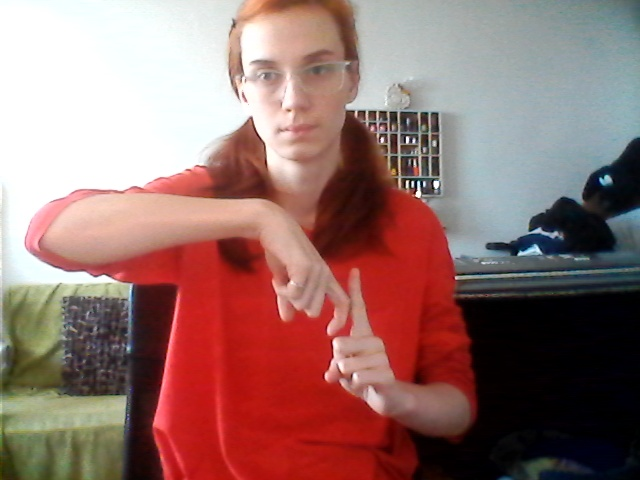k: (245, 227, 397, 417)
